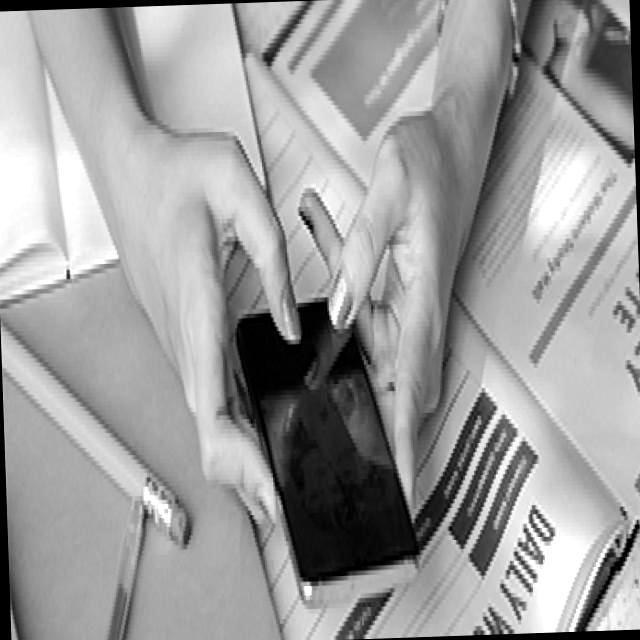phone: (232, 289, 422, 612)
